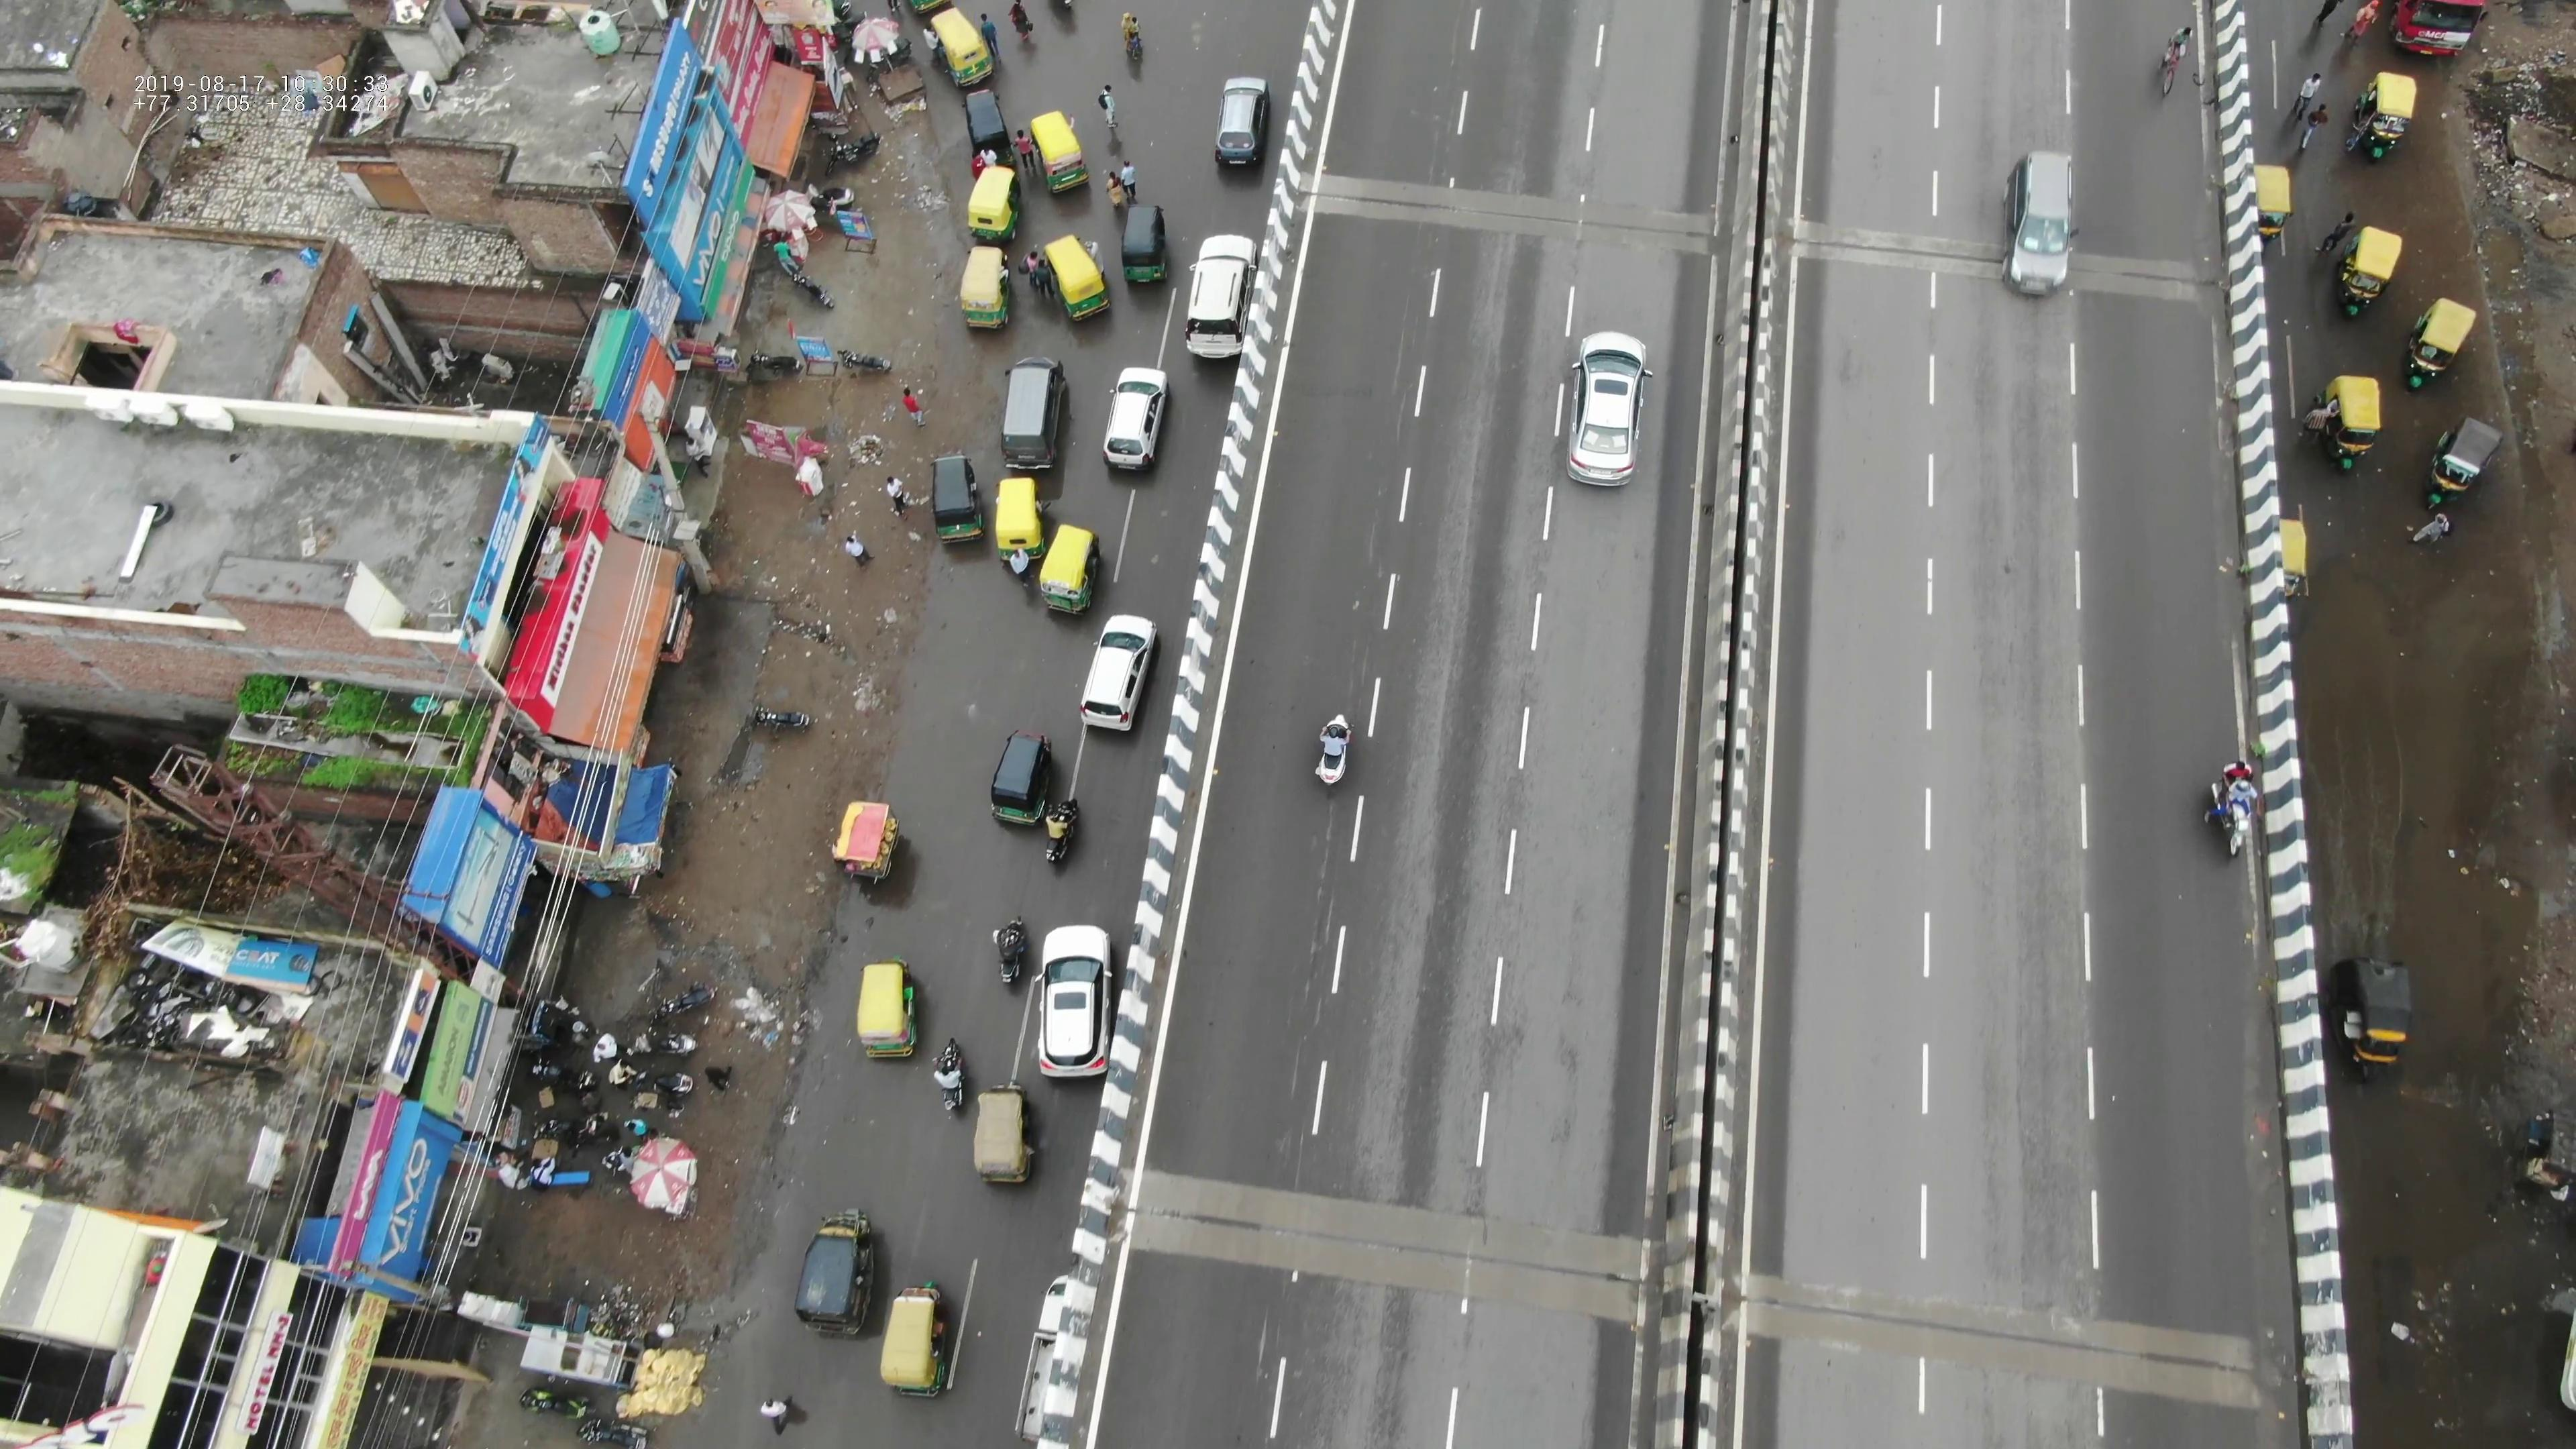Waterlogging: (2327, 573, 2519, 906)
